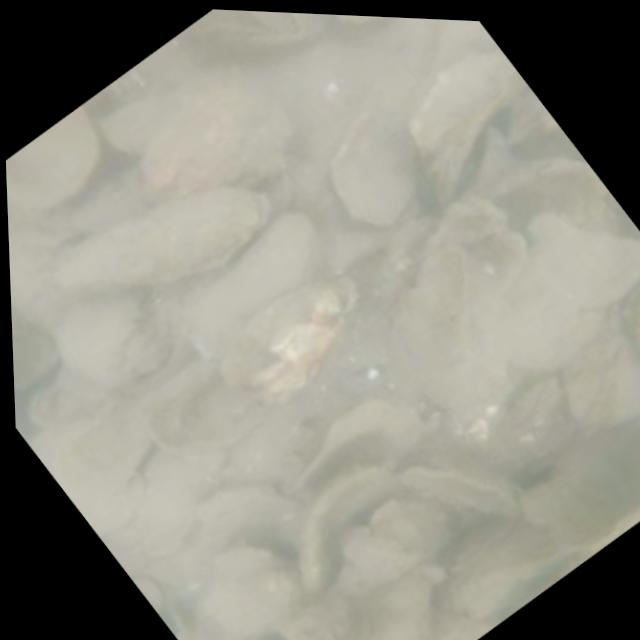Oyster-Indeterminate: (59, 187, 259, 289), (186, 215, 318, 356), (140, 85, 286, 204), (506, 215, 640, 311), (55, 287, 148, 388), (203, 545, 302, 637), (187, 603, 270, 640)
